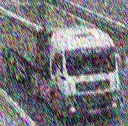truck: (1, 3, 120, 119)
